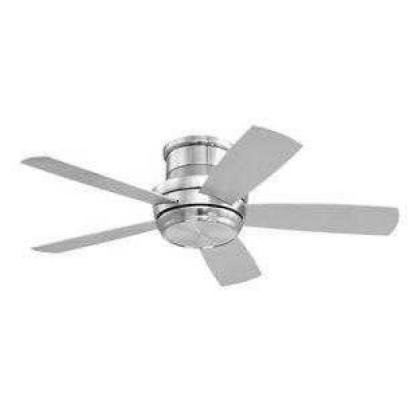ceiling-fan: (19, 124, 399, 288)
